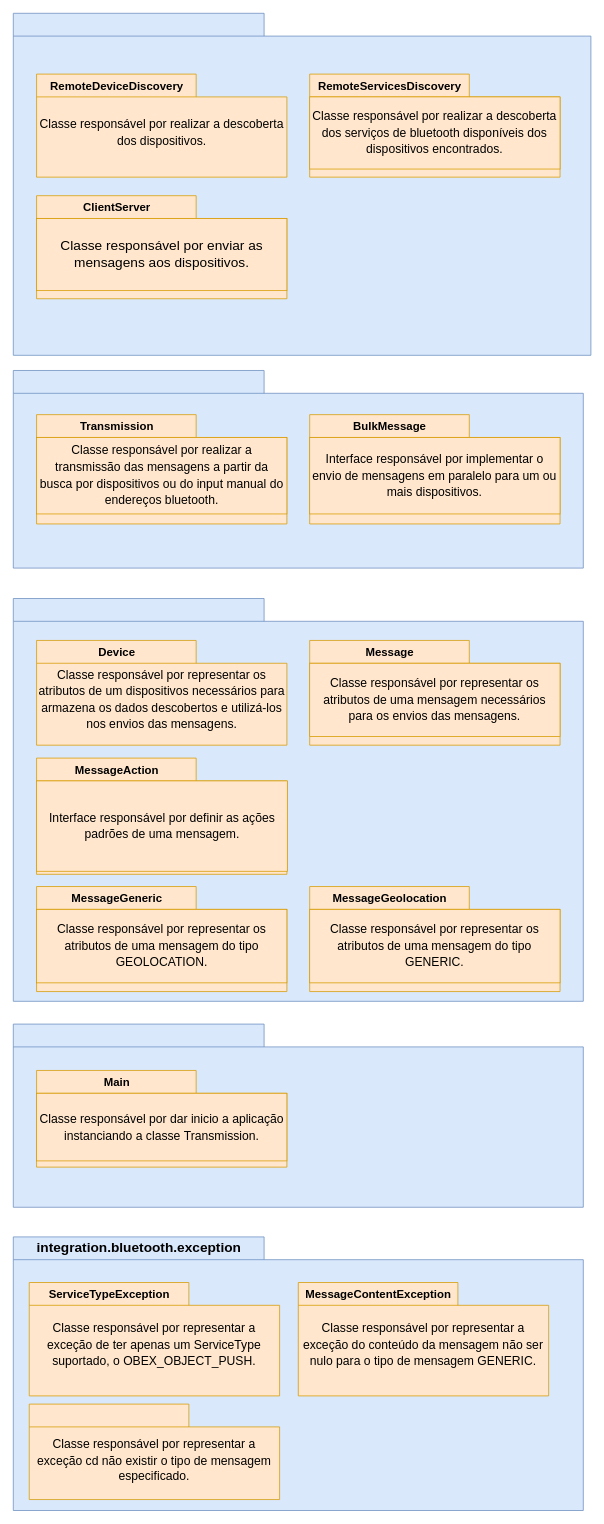
This 604x1524 diagram has some shape labels left out. The shapes that lost their labels are listed below. From the top down, each one's box as (x1, y1, x2, y2) in pixels, then its label:
(13, 13, 591, 355): integration.bluetooth.infrastructure
(13, 370, 583, 568): integration.bluetooth.service
(13, 598, 583, 1001): integration.bluetooth.domain
(13, 1023, 583, 1207): integration.bluetooth.application
(28, 1403, 280, 1500): MessageTypeException
